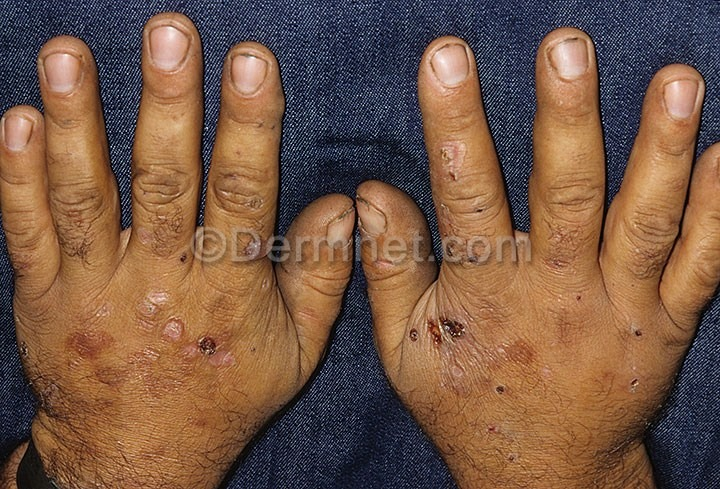Melasma: (43, 310, 236, 454), (406, 292, 544, 403), (618, 300, 655, 375)
